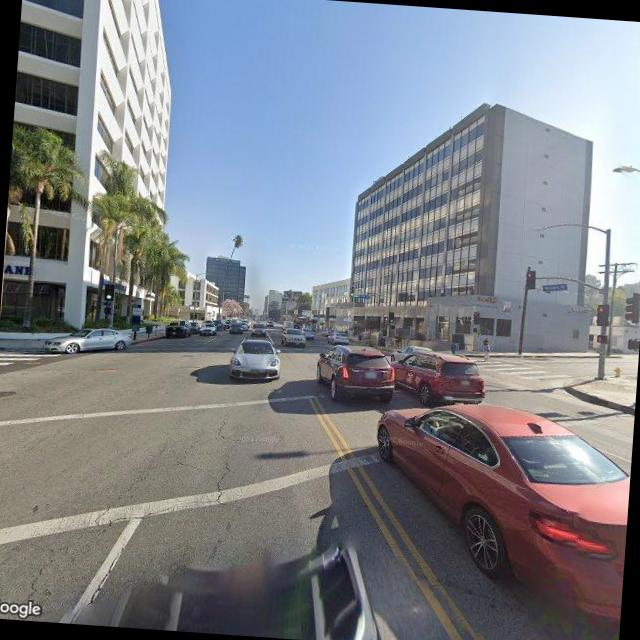crack: (80, 522, 130, 613), (210, 454, 232, 507), (212, 405, 230, 439)
